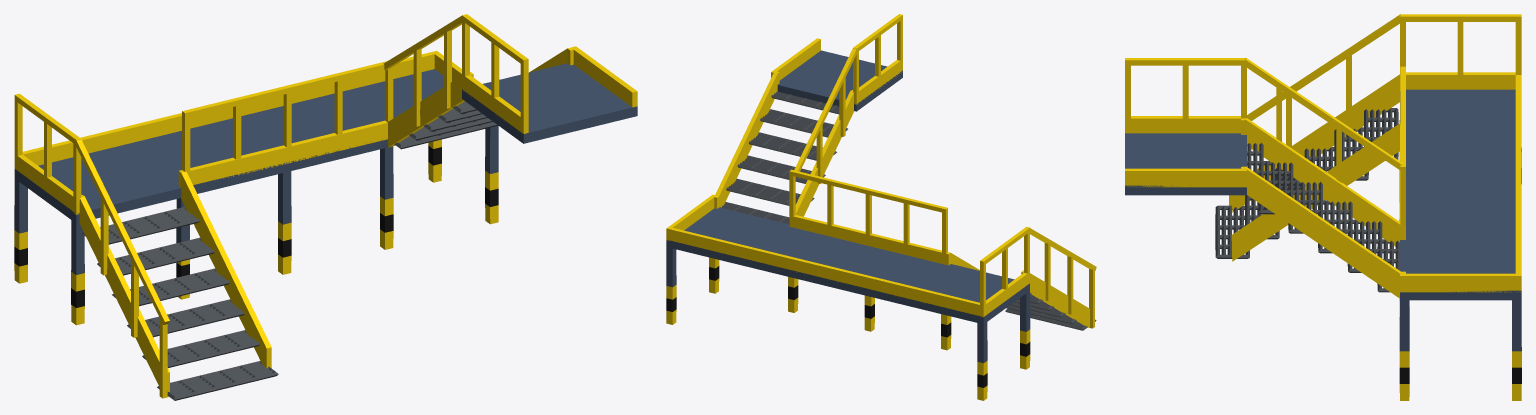
File: StairPlatform.fbx
3 views of the same model, side by side, from view 1: azimuth 30°, elevation 25°; view 2: azimuth 150°, elevation 25°; view 3: azimuth 270°, elevation 25° (orthographic). The views are drawn at different scales.
Parts seen in each view (by area): view 1: StairPlatform; view 2: StairPlatform; view 3: StairPlatform.
Boxes of the visible parts, x1=… form: StairPlatform: x1=14, y1=14, x2=637, y2=400; StairPlatform: x1=666, y1=14, x2=1096, y2=400; StairPlatform: x1=1125, y1=14, x2=1521, y2=400.
Bounding box in the file's own units: 804 × 551 × 661.
